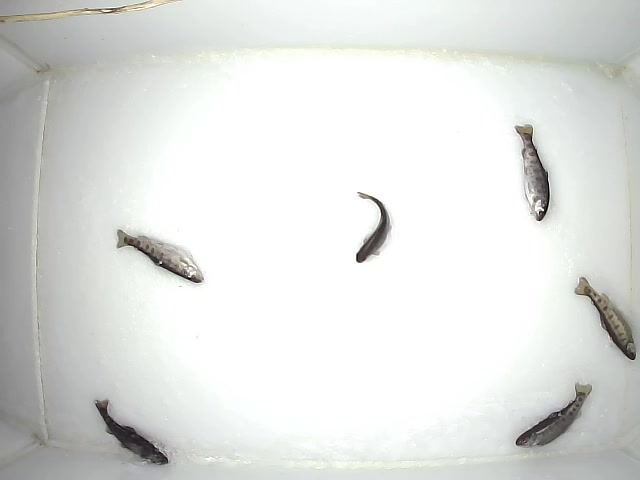fish: (571, 276, 637, 362), (91, 397, 171, 466), (112, 225, 205, 284), (513, 379, 593, 447), (514, 122, 551, 224), (354, 190, 393, 264)
